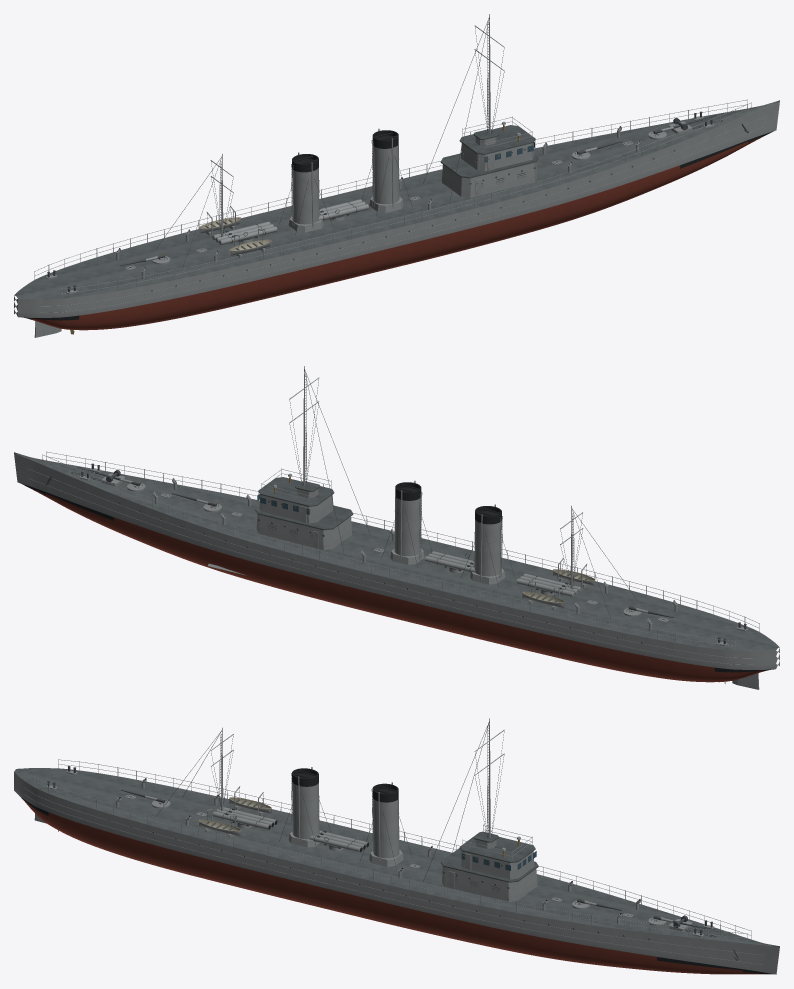
Rendered from fallback-de.glb.
The picture shows the model from 3 angles, top to bottom: view 1: azimuth 30°, elevation 25°; view 2: azimuth 150°, elevation 25°; view 3: azimuth 330°, elevation 25°; orthographic projection.
Visible parts, largest first — view 1: Original DE custom-design concept; view 2: Original DE custom-design concept; view 3: Original DE custom-design concept.
Boxes of the visible parts, <box> form: Original DE custom-design concept: <box>14,14,779,337</box>; Original DE custom-design concept: <box>14,366,779,689</box>; Original DE custom-design concept: <box>14,718,779,974</box>.
Bounding box in the file's own units: 86 × 23.12 × 9.69.
9 materials, 8 textured.
